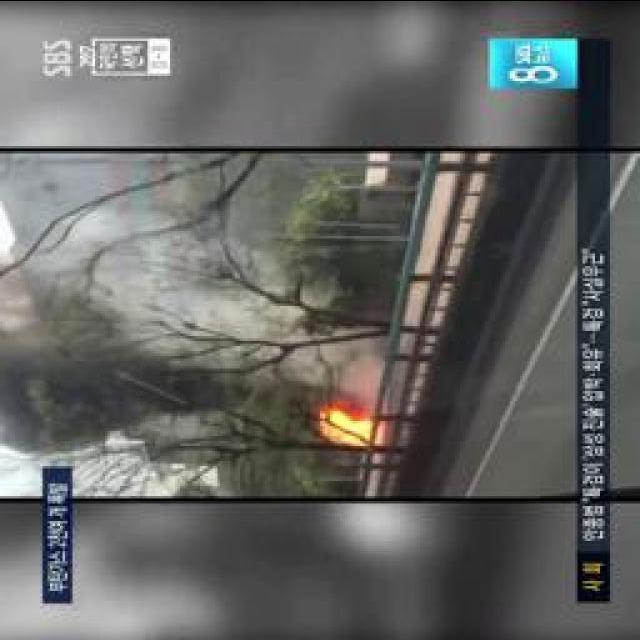Fire: (319, 402, 383, 456)
